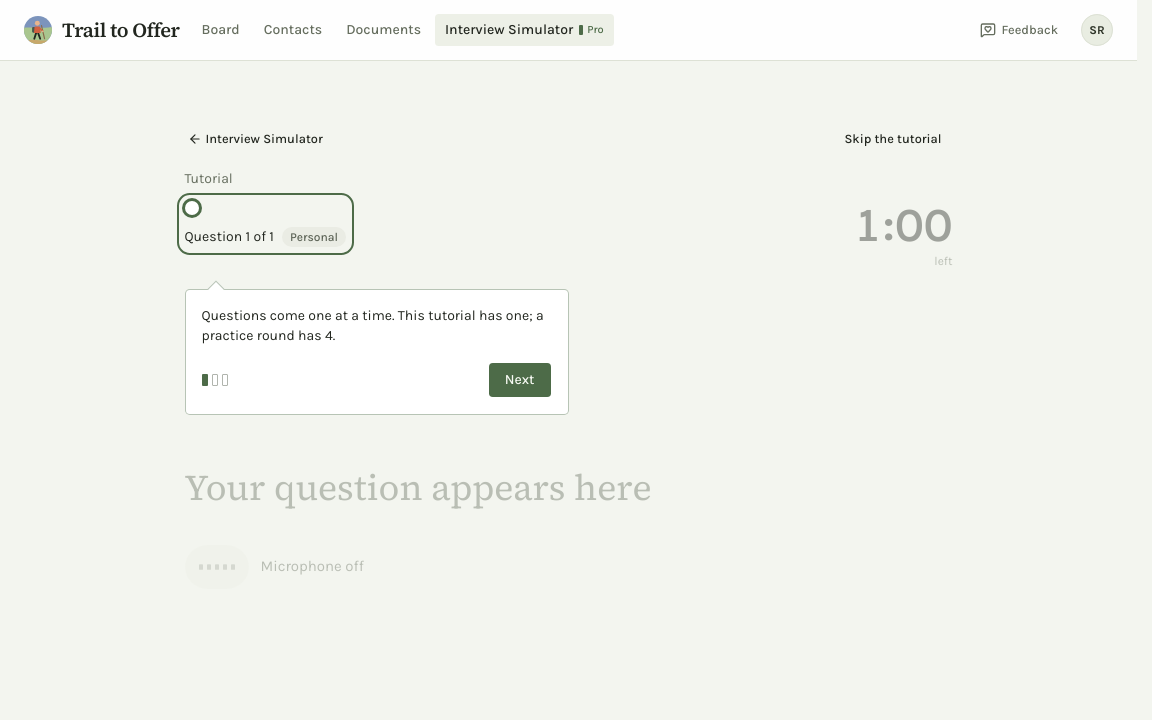
the Tutorial's steps (practice feedback ticket 06) › TU-U4: Submit is pointed out once there are words to submit, not before
The width and height of the screenshot is (1152, 720).
What coordinates should you click on to do the following:
click the button "Next"
I would click on:
 (520, 380)
Its box is [488,362,552,398].
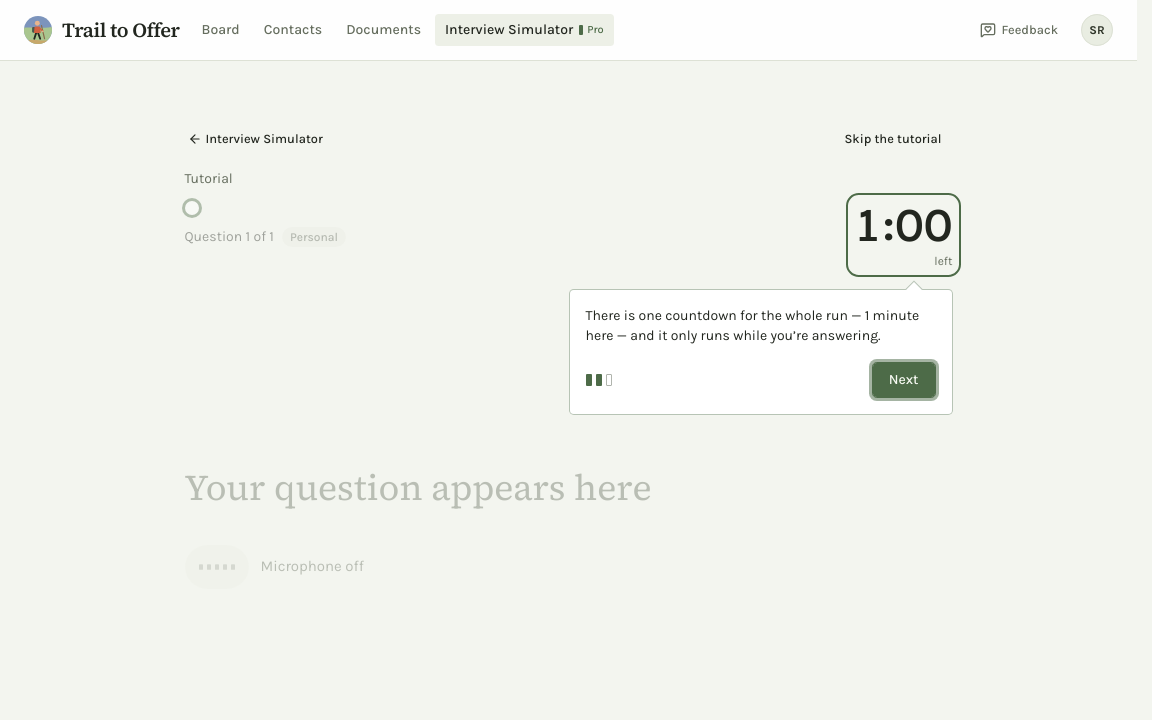
What coordinates should you click on to do the following:
click the button "Next"
I would click on:
 (904, 380)
Its box is [872,362,936,398].
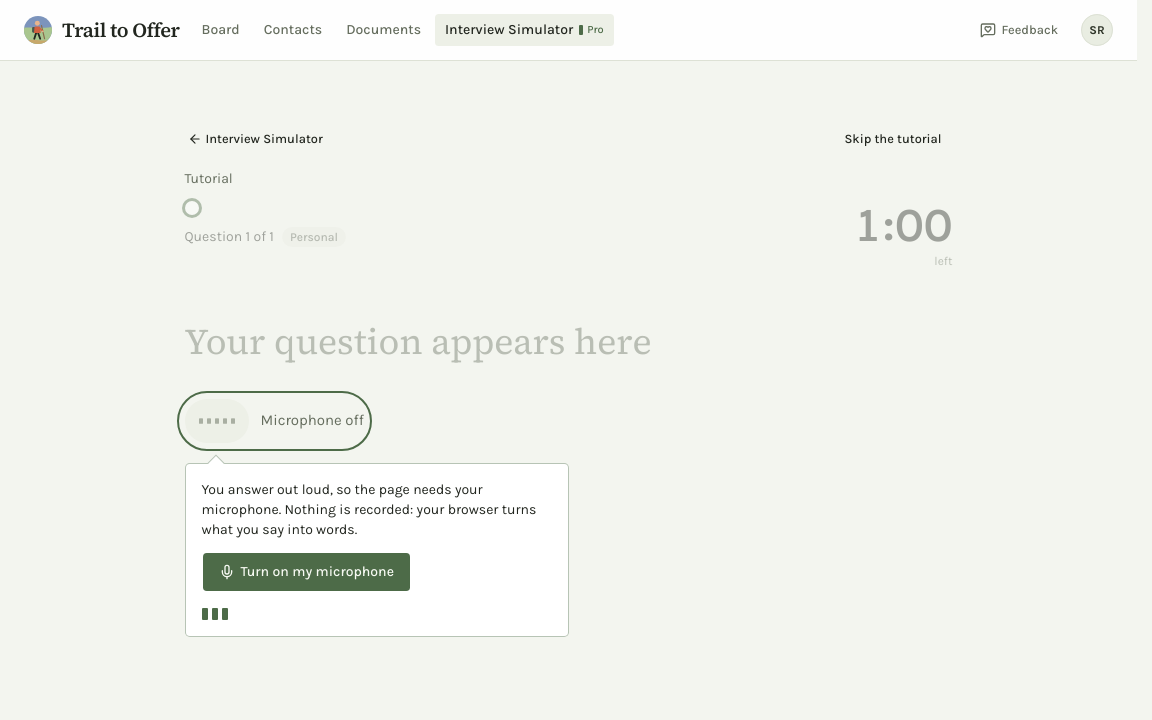
What coordinates should you click on to do the following:
click the button "Turn on my microphone"
I would click on:
 (306, 572)
Its box is [202,552,411,592].
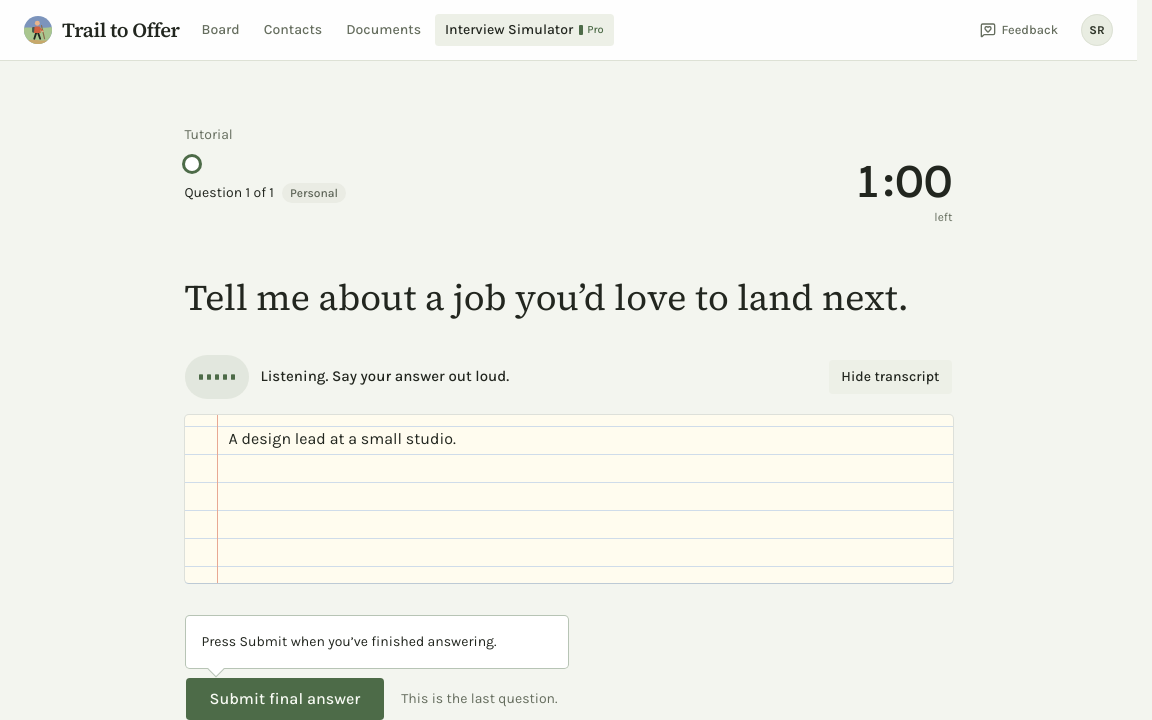
expect the text "Press Submit when you’ve finished answering." is shown: met, box [184,614,568,668]
